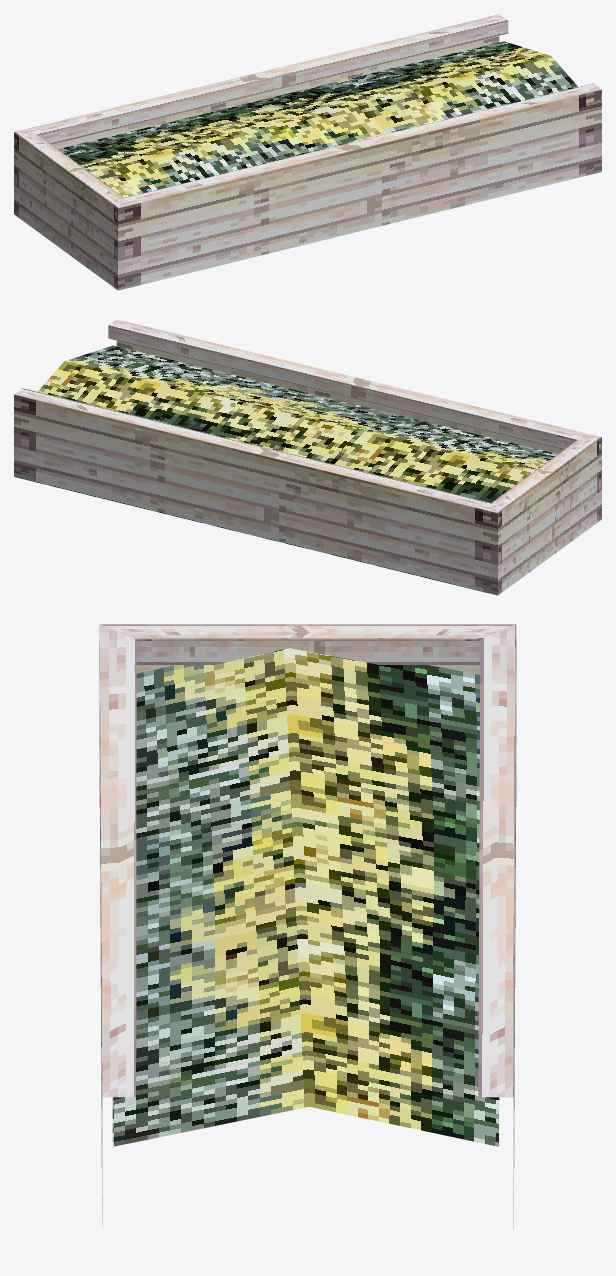
File: Environment - Prop - Wd Plnt 02 - PMWdPlnt02_E.glb
3 renders of one model, top to bottom at view 1: azimuth 30°, elevation 25°; view 2: azimuth 150°, elevation 25°; view 3: azimuth 270°, elevation 25°, orthographic. The views are drawn at different scales.
Visible parts, largest first — view 1: PMWDPLNT02_E; view 2: PMWDPLNT02_E; view 3: PMWDPLNT02_E.
Part boxes in pixels (x1,y1,x2,y2): PMWDPLNT02_E: [14, 14, 601, 290]; PMWDPLNT02_E: [14, 319, 601, 595]; PMWDPLNT02_E: [99, 624, 516, 1228].
Bounding box in the file's own units: 30.19 × 4.89 × 11.21.
Materials: 1 (1 with a texture image).
